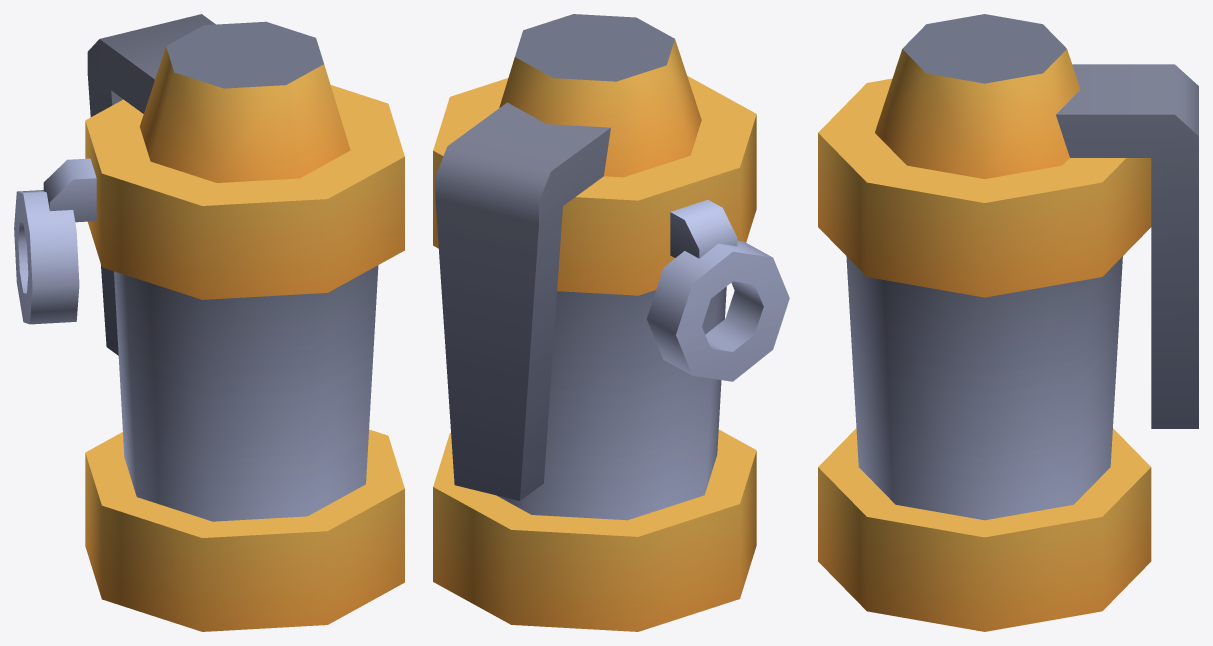
File: grenade.glb
3 renders of one model, left to right at view 1: azimuth 30°, elevation 25°; view 2: azimuth 150°, elevation 25°; view 3: azimuth 270°, elevation 25°, orthographic.
Visible parts, largest first — view 1: grenade-a; view 2: grenade-a; view 3: grenade-a.
Boxes of the visible parts, left/top/right/bottom form: grenade-a: left=14, top=14, right=404, bottom=631; grenade-a: left=433, top=14, right=789, bottom=631; grenade-a: left=818, top=14, right=1198, bottom=631.
Bounding box in the file's own units: 0.1689 × 0.2377 × 0.1599.
1 material, 1 textured.
